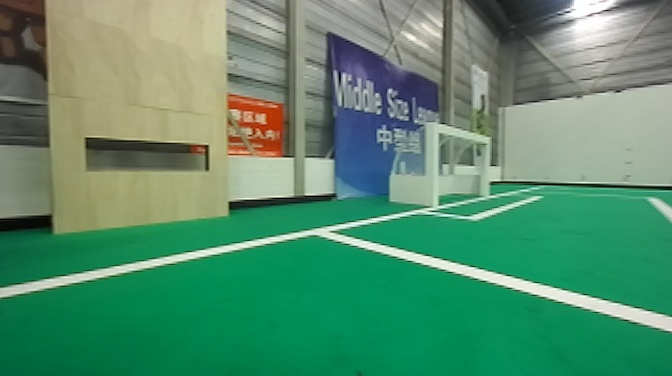goalpost: (421, 118, 441, 209), (475, 130, 495, 200)
